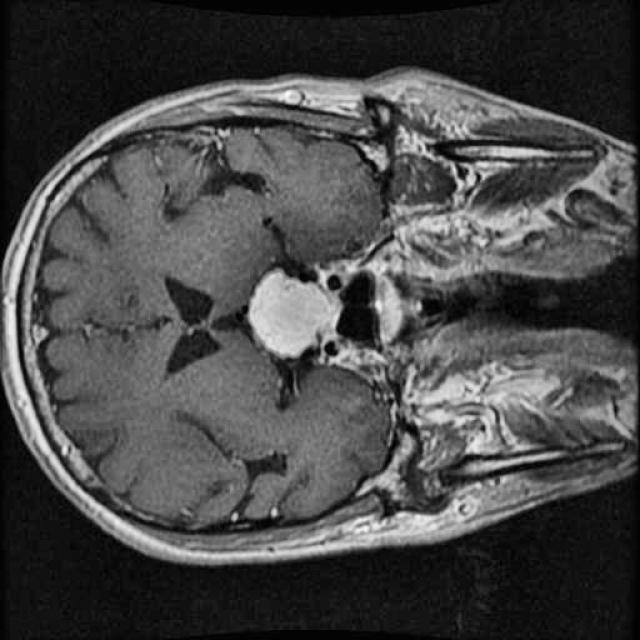Tumor: (238, 256, 355, 378)
